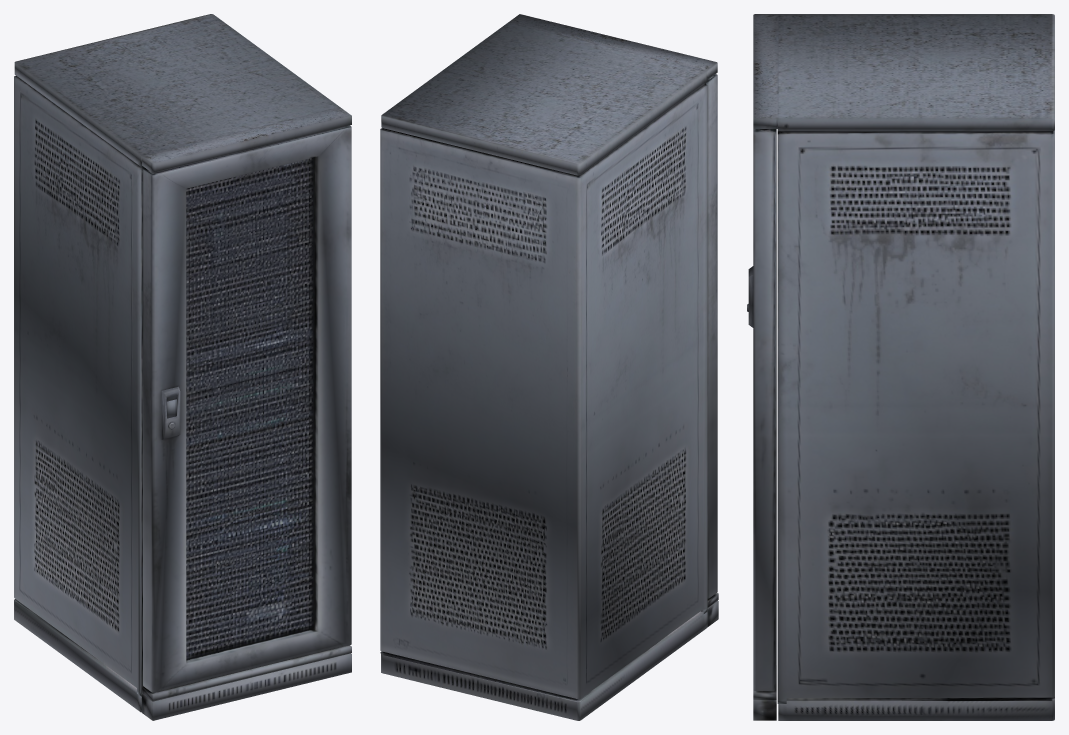
The model's file is 服务器机柜.glb.
3 views of the same model, side by side, from view 1: azimuth 30°, elevation 25°; view 2: azimuth 150°, elevation 25°; view 3: azimuth 270°, elevation 25° (orthographic). The views are drawn at different scales.
Visible parts, largest first — view 1: tripo_node_743b5243-0e3c-4f7f-aaa5-7f00dbe065b2; view 2: tripo_node_743b5243-0e3c-4f7f-aaa5-7f00dbe065b2; view 3: tripo_node_743b5243-0e3c-4f7f-aaa5-7f00dbe065b2.
Boxes of the visible parts, x1,y1,x2,y2 form: tripo_node_743b5243-0e3c-4f7f-aaa5-7f00dbe065b2: (14, 14, 351, 720); tripo_node_743b5243-0e3c-4f7f-aaa5-7f00dbe065b2: (380, 14, 718, 720); tripo_node_743b5243-0e3c-4f7f-aaa5-7f00dbe065b2: (747, 14, 1054, 720).
Bounding box in the file's own units: 0.3765 × 0.9995 × 0.4634.
1 material, 1 textured.
